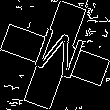M_S: (25, 24, 85, 86)
